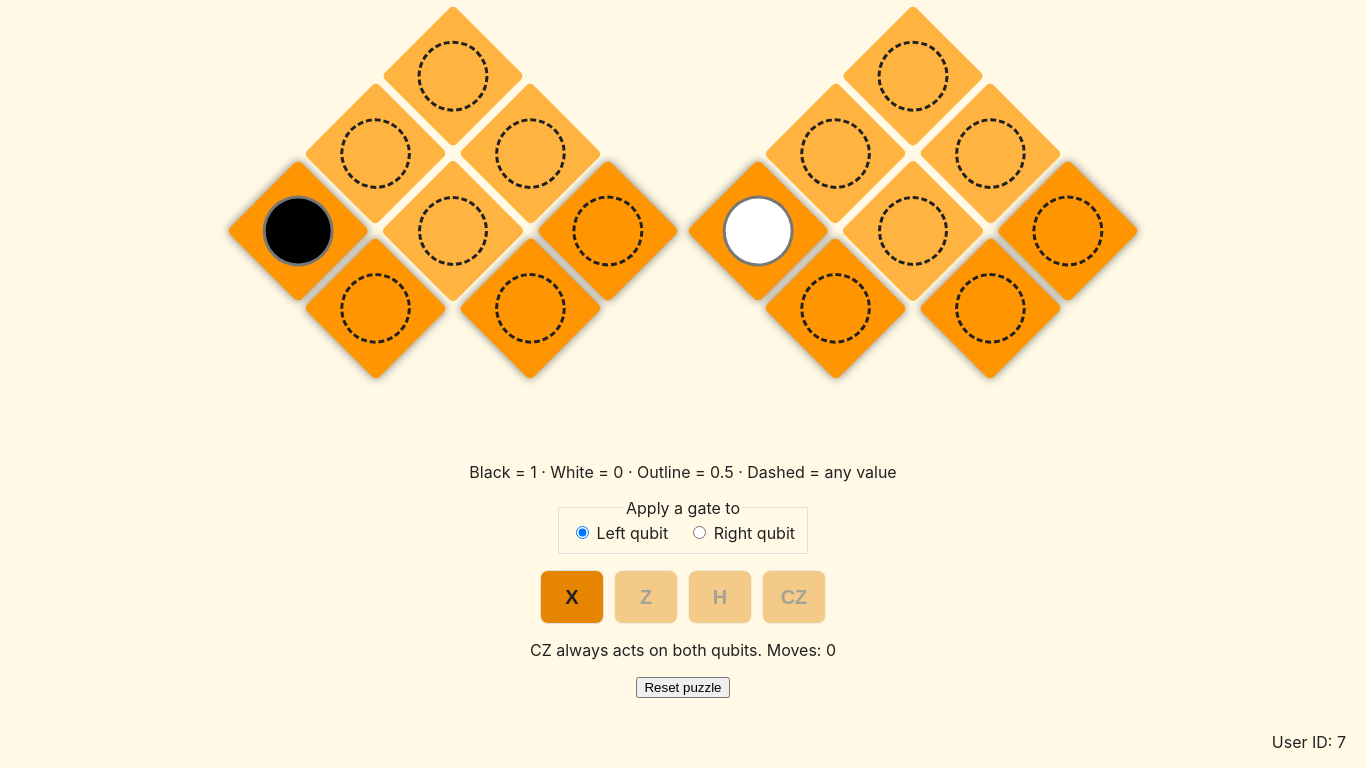
Test case: uses the rotated CSRF token when applying a gate and renders the winning state
(page scrolled)
Expected: the button named "Apply H gate" is disabled, [688, 570, 752, 624]
What coordinates should you click on to do the following:
click the button named "Apply X gate"
I would click on:
 (572, 597)
Its box is [540, 570, 604, 624].
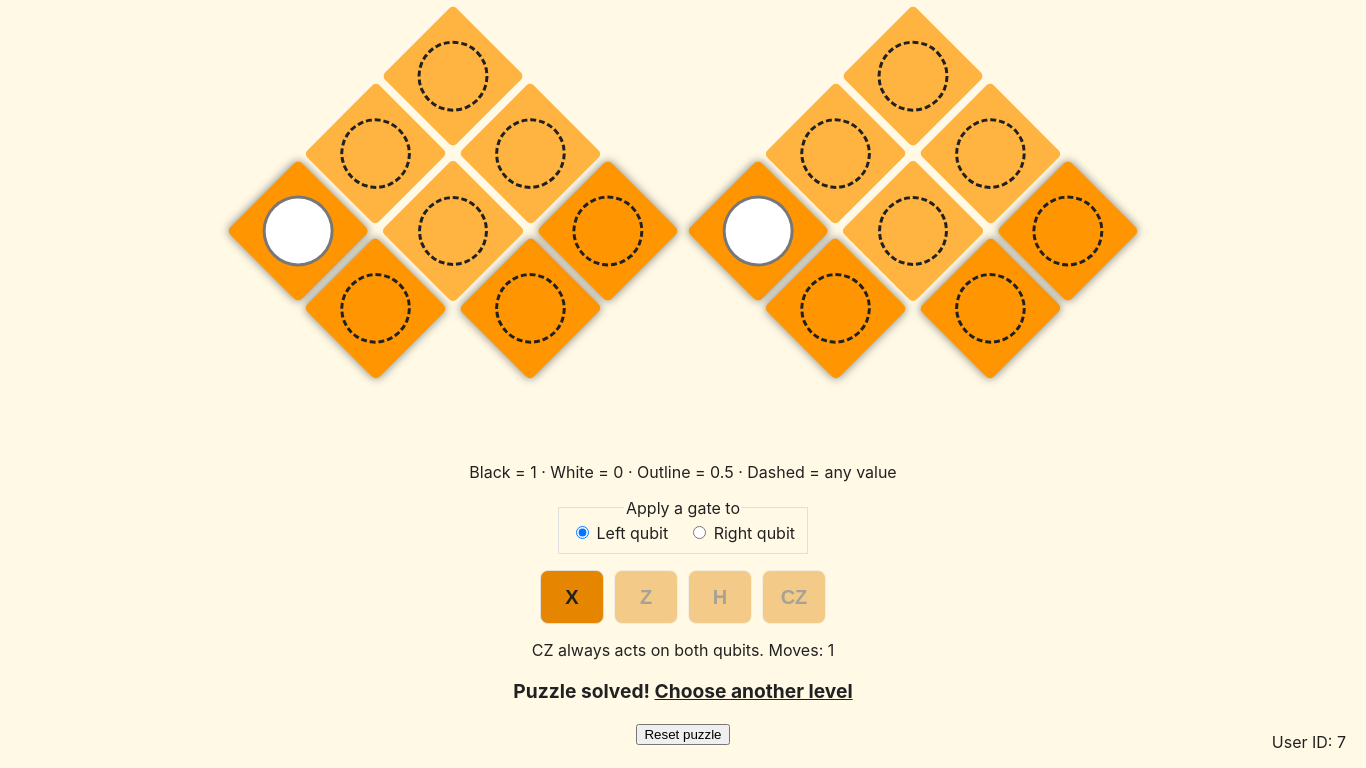
Expected: the text "Puzzle solved! Choose another level" is shown, [513, 680, 853, 704]
